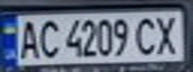0: (96, 16, 115, 57)
2: (78, 16, 100, 58)
4: (60, 16, 84, 58)
9: (112, 15, 133, 57)
A: (15, 17, 42, 61)
C: (133, 14, 163, 56), (36, 17, 60, 59)
X: (151, 12, 184, 56)
